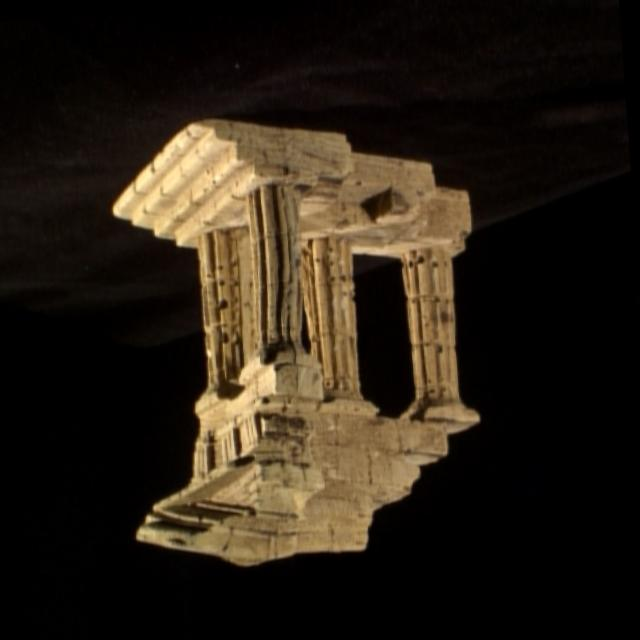Instance-Segmentation: (112, 119, 477, 564)
